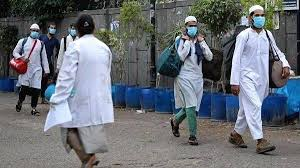Mask: (252, 14, 267, 28), (187, 27, 197, 37), (29, 30, 40, 38), (47, 28, 57, 35)
Social Distance: (6, 11, 291, 159)
